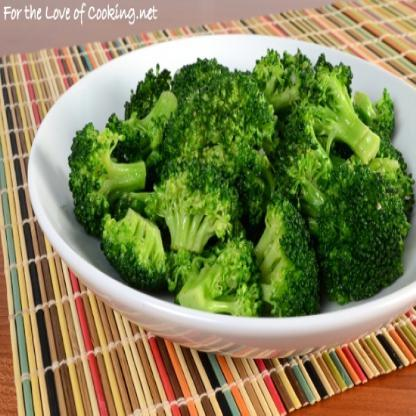broccoli: (68, 43, 415, 316)
